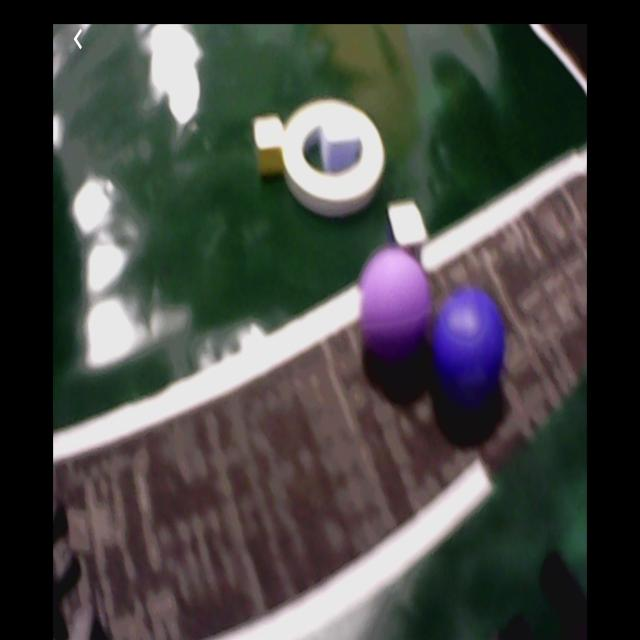ball: (434, 292, 507, 400), (360, 249, 432, 358)
